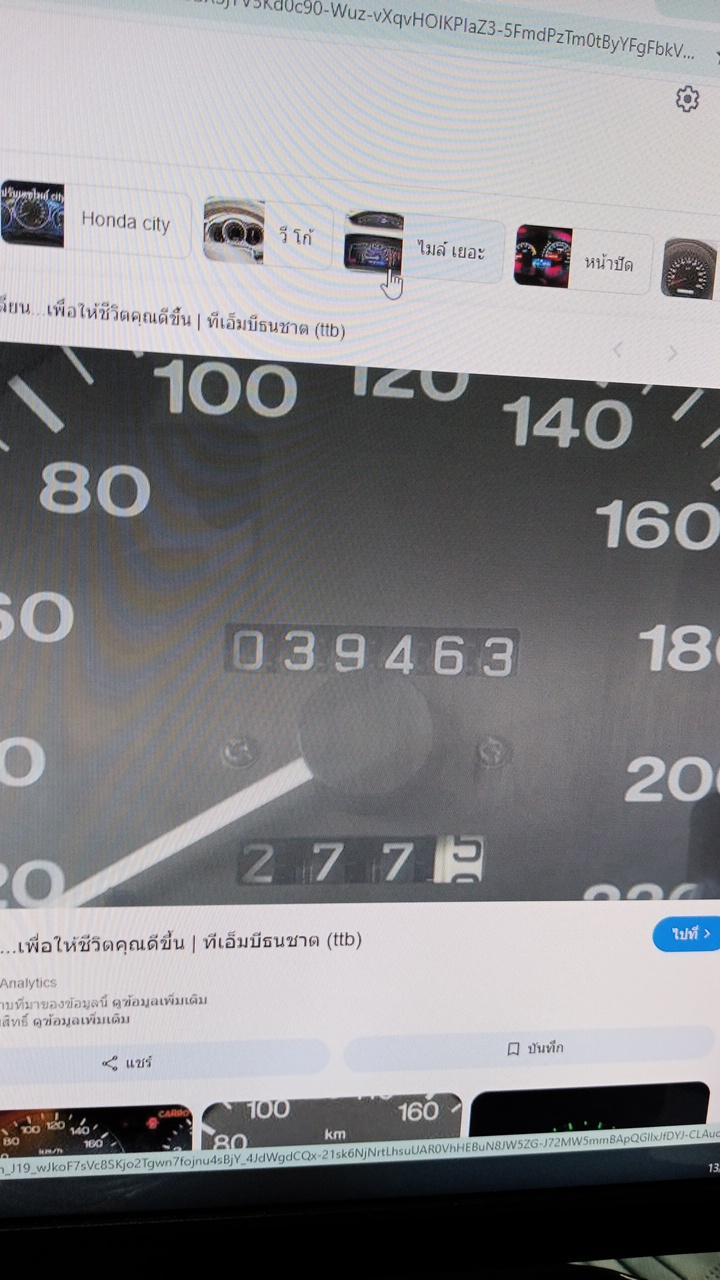0: (231, 628, 264, 672)
3: (283, 629, 315, 672), (483, 636, 513, 677)
4: (383, 632, 415, 676)
6: (434, 635, 464, 676)
9: (334, 631, 366, 674)
odometer: (221, 620, 521, 681)
